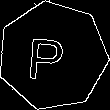P_N: (32, 29, 74, 83)
